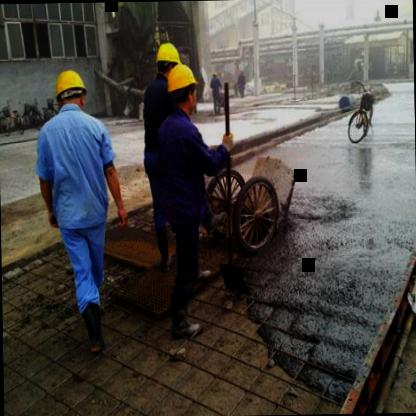helmet: (50, 64, 89, 115), (169, 63, 199, 115), (154, 41, 180, 78)
